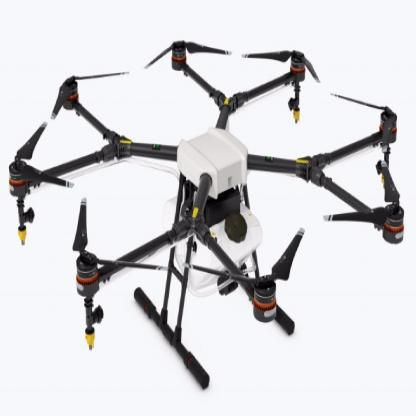drone: (20, 29, 410, 390)
